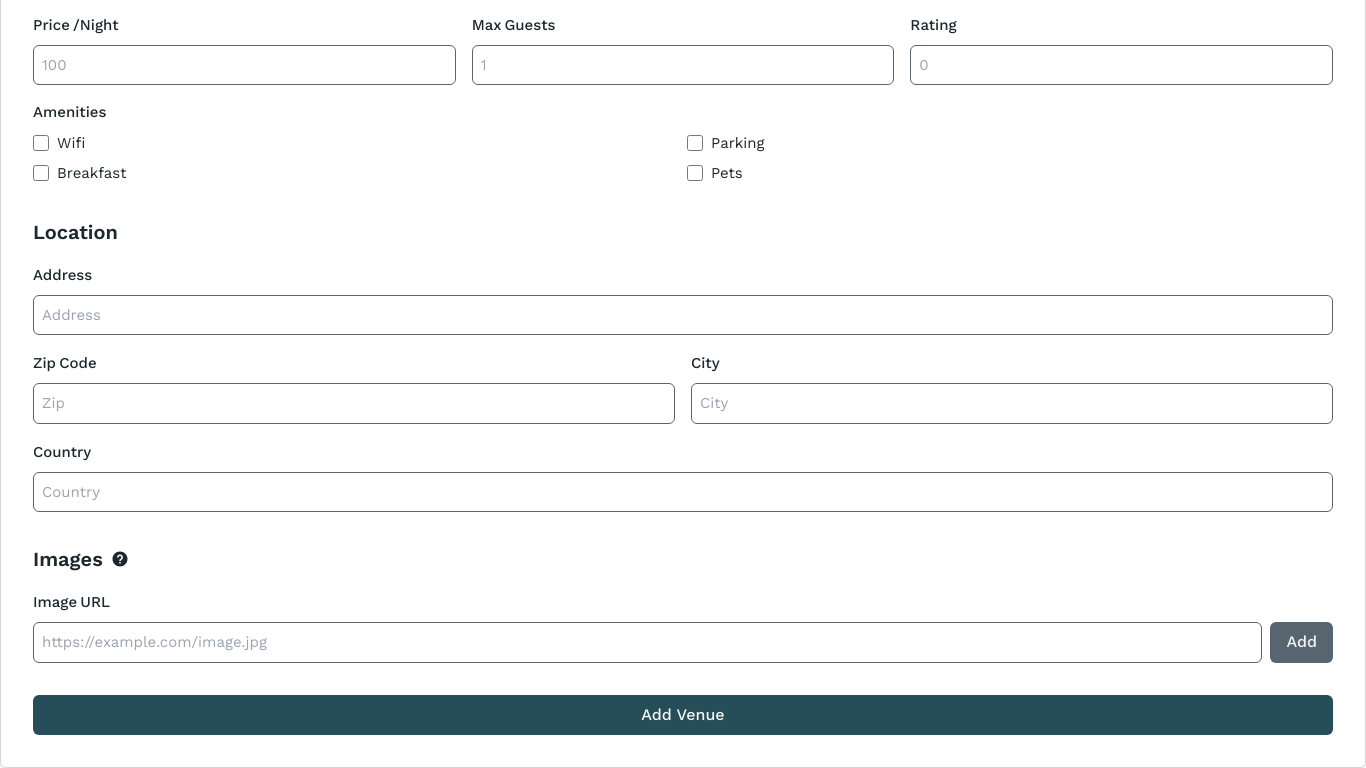
Test case: VenueForm › should display validation errors on empty form submission
(page scrolled)
What coordinates should you click on to do the following:
click the button "Add venue"
I would click on:
 (683, 714)
Its box is 33,694 -> 1333,734.
(page scrolled)
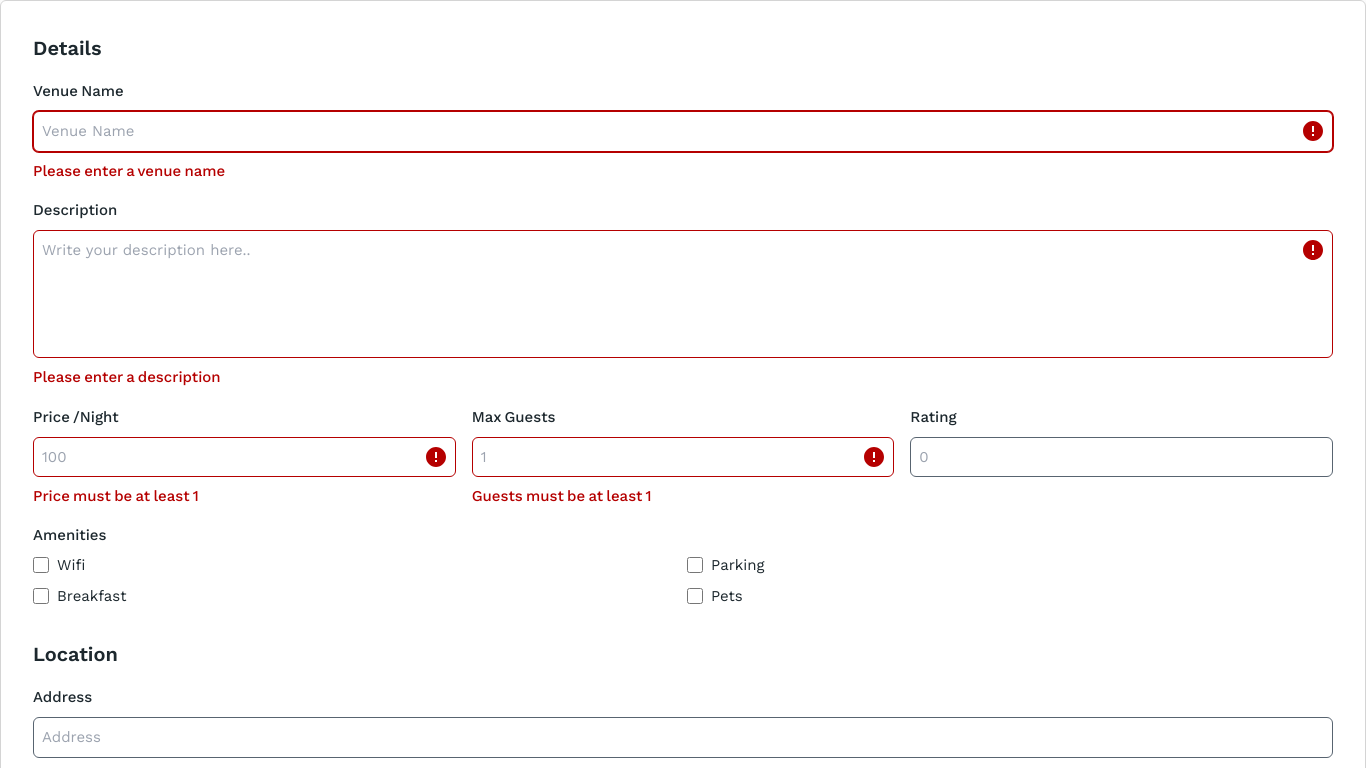
Now the text "Please enter a venue name" is shown, box 33,162 -> 225,180
Now the text "Please enter a description" is shown, box 33,368 -> 221,386
Now the text "Price must be at least 1" is shown, box 33,487 -> 199,505
